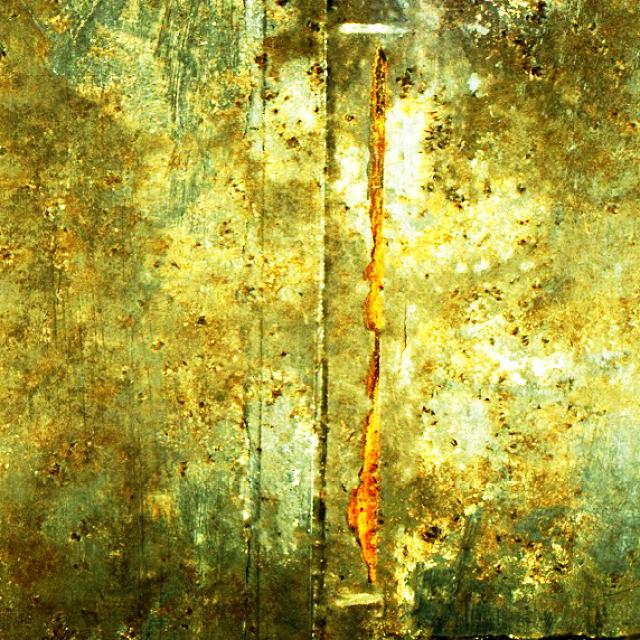Corrosion: (362, 44, 390, 334), (349, 346, 383, 583)
